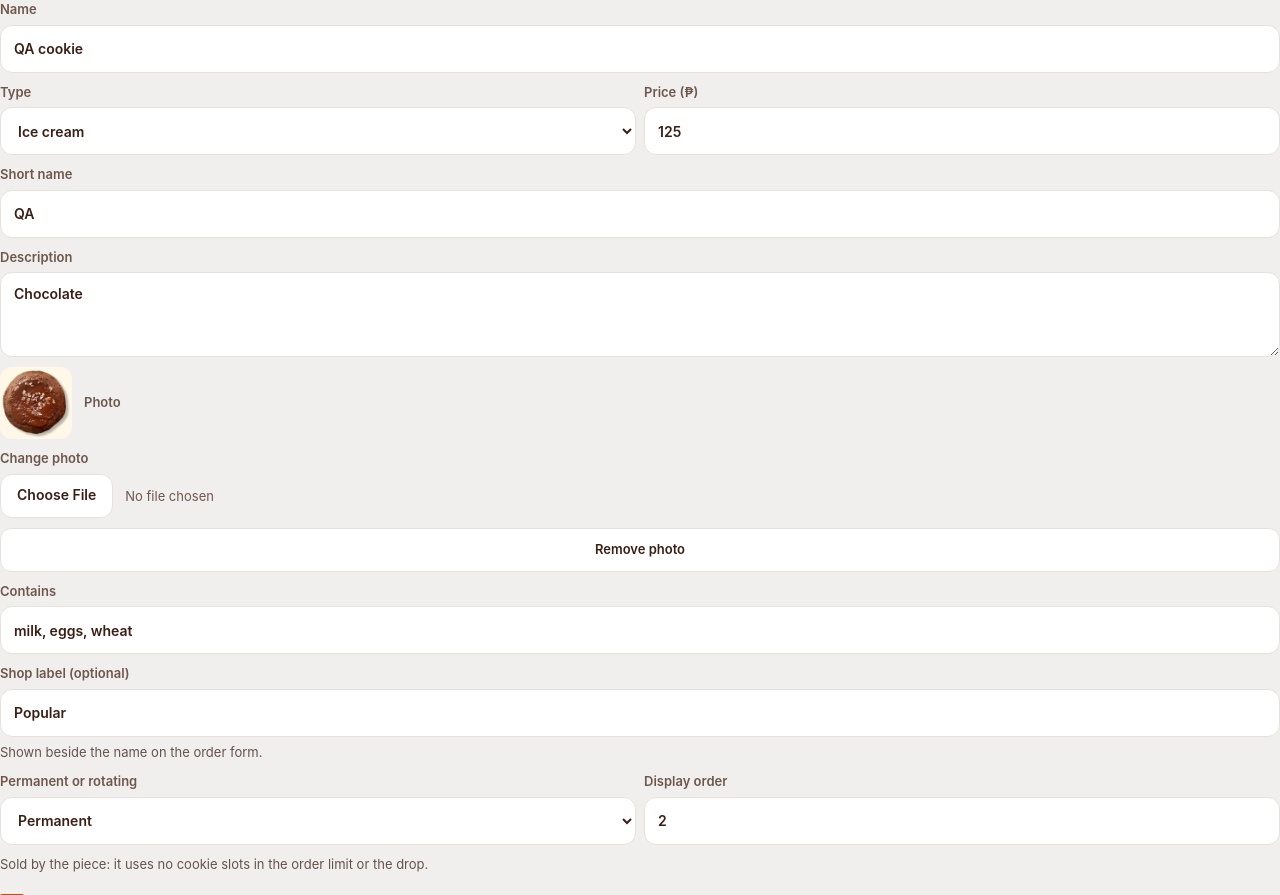
visual plain-language product editor › shows the slot field from 1 when an item becomes a cookie, and hides it again for an item
Select "Cookie" in the dropdown labelled "Type": (318, 131) x1=0 y1=107 x2=636 y2=155
(page scrolled)
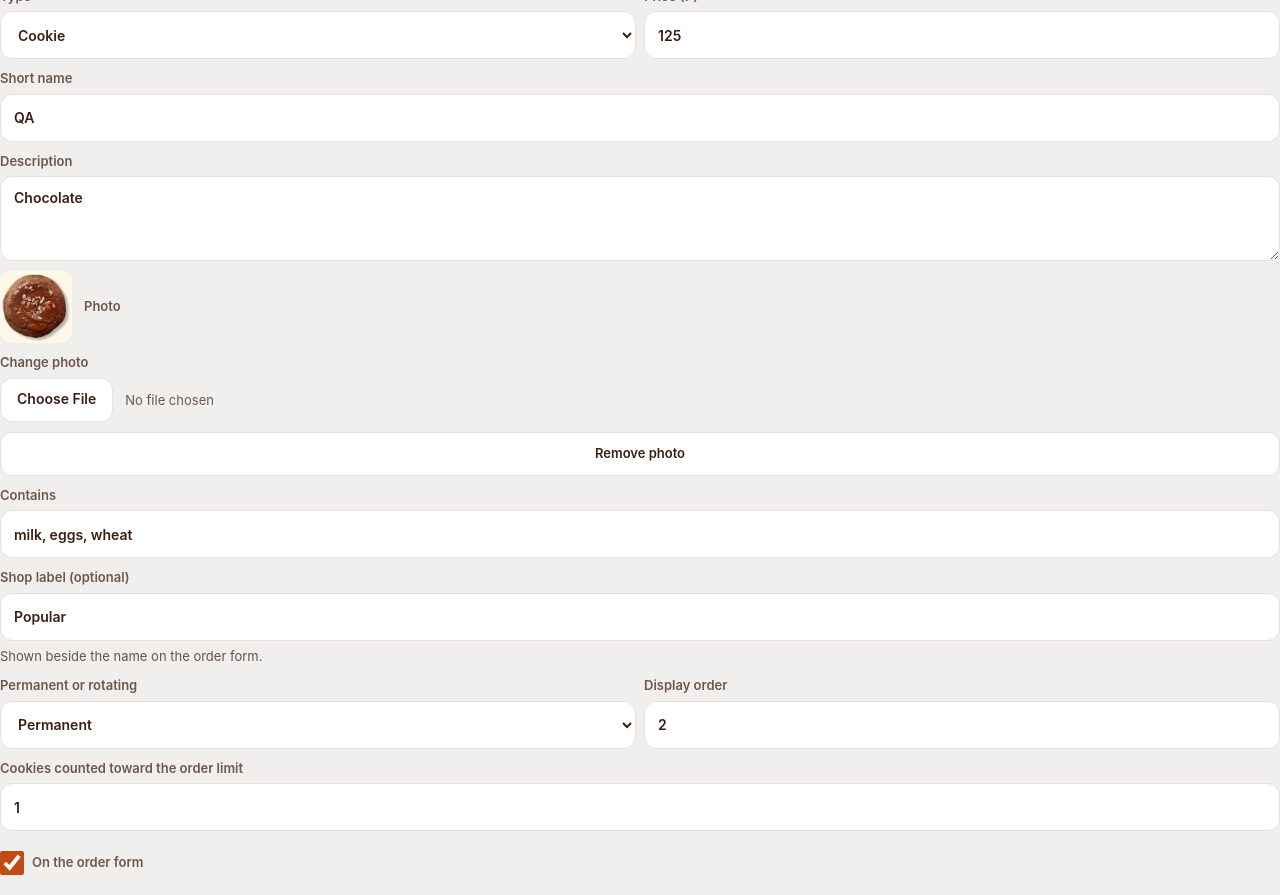
Expected: the number field labelled "Cookies counted toward the order limit" holds "1", x1=0 y1=783 x2=1279 y2=831
Submit the form named "Save product"
Select "Ice cream" in the dropdown labelled "Type": (318, 35) x1=0 y1=11 x2=636 y2=59
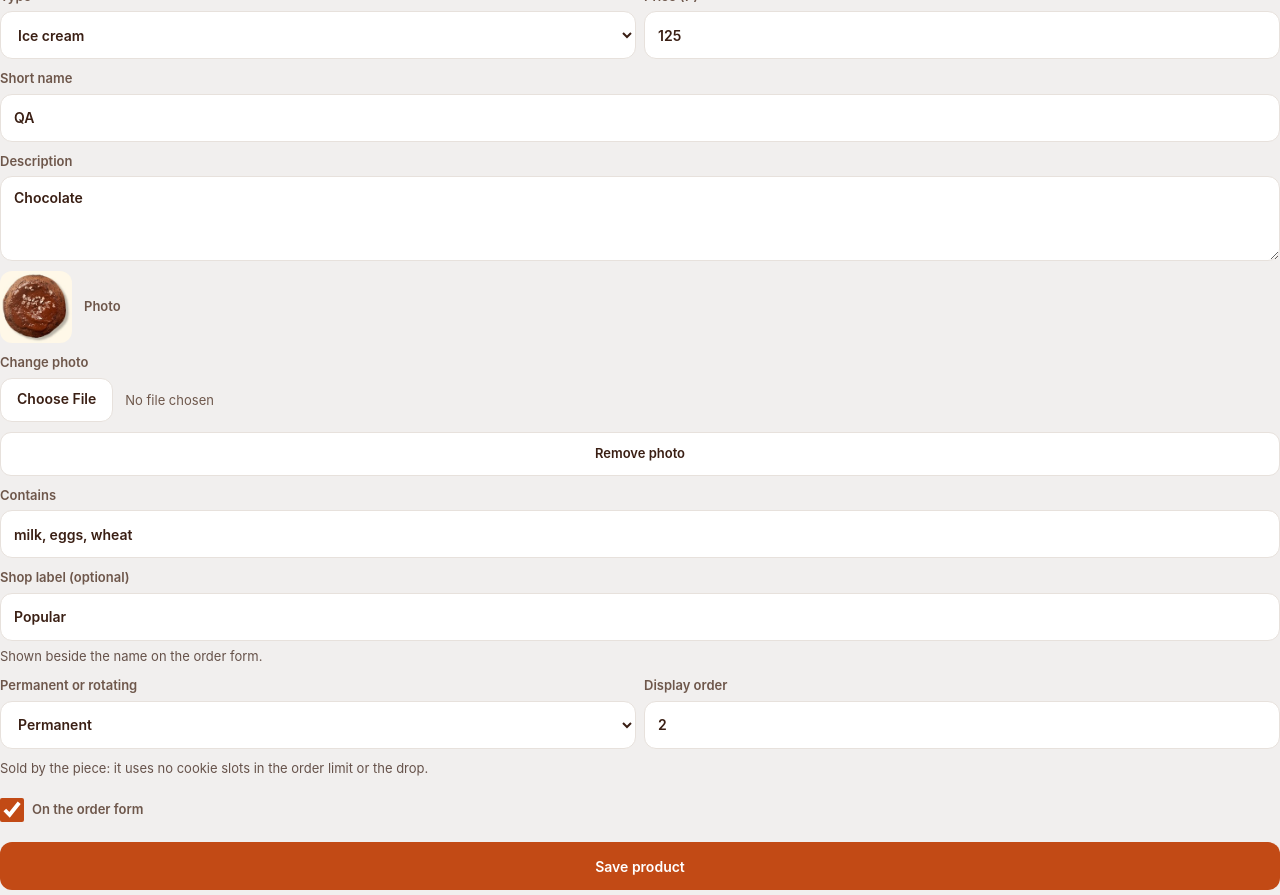
Expected: the text labelled "Cookies counted toward the order limit" is gone
